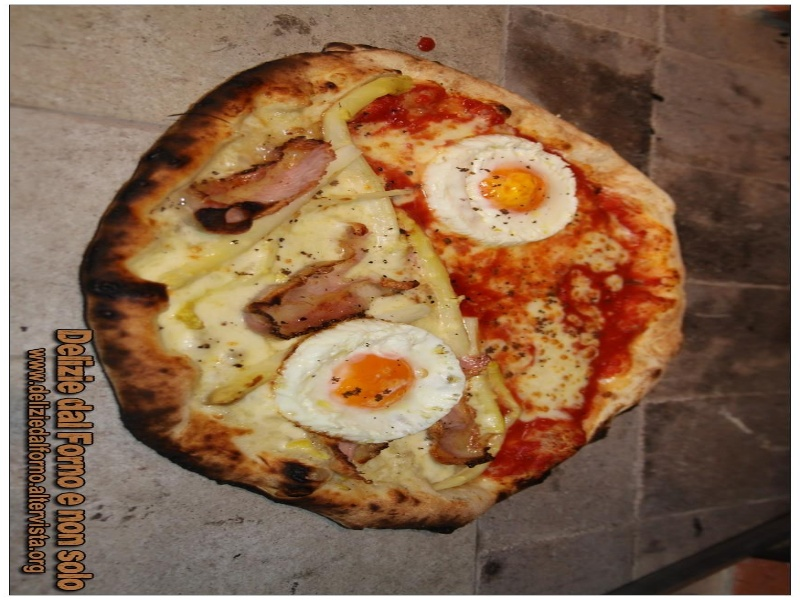oeuf: (311, 335, 436, 423), (451, 151, 567, 237)
